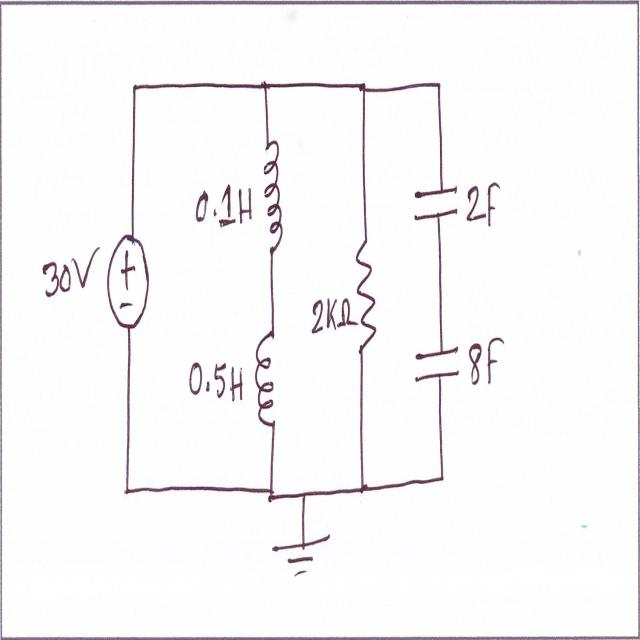capacitor: (413, 334, 466, 398), (410, 179, 465, 231)
ground: (269, 524, 334, 585)
inductor: (262, 129, 286, 260), (253, 320, 280, 432)
resistor: (354, 224, 379, 368)
voltage_source: (104, 224, 152, 332)
